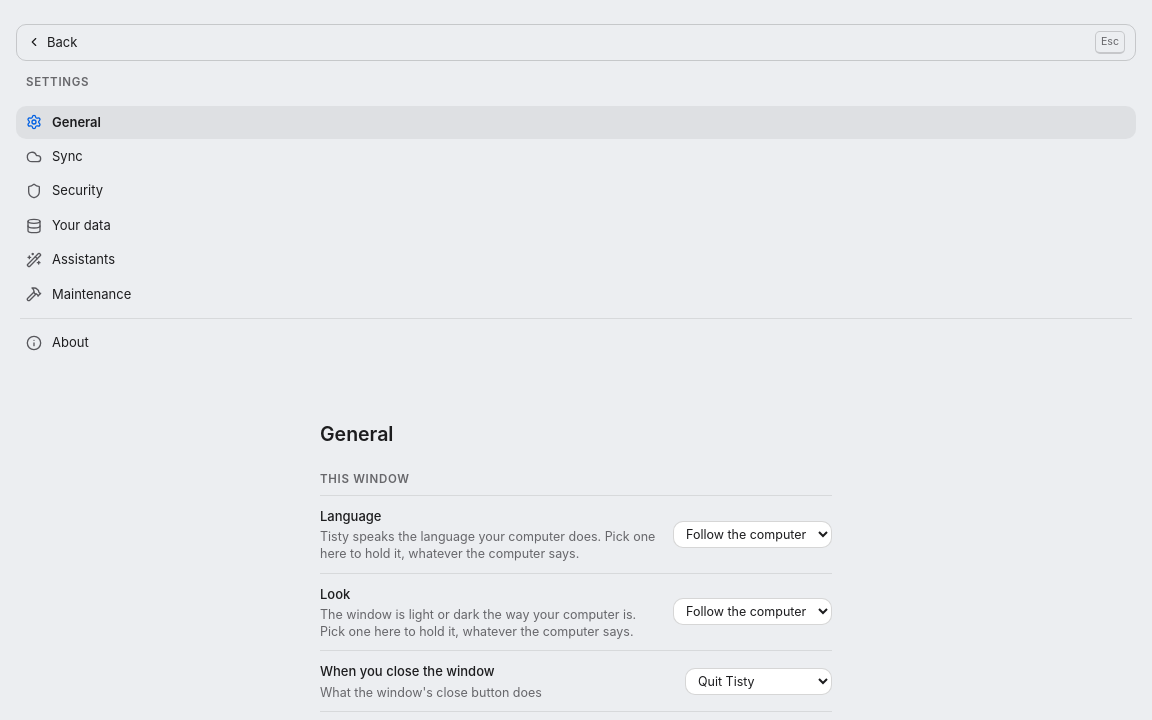
Test case: the maintenance panel › offers to turn syncing on when there is no folder
Step 1. Click the tab "Sync" → (67,156), box [16, 140, 1136, 173]
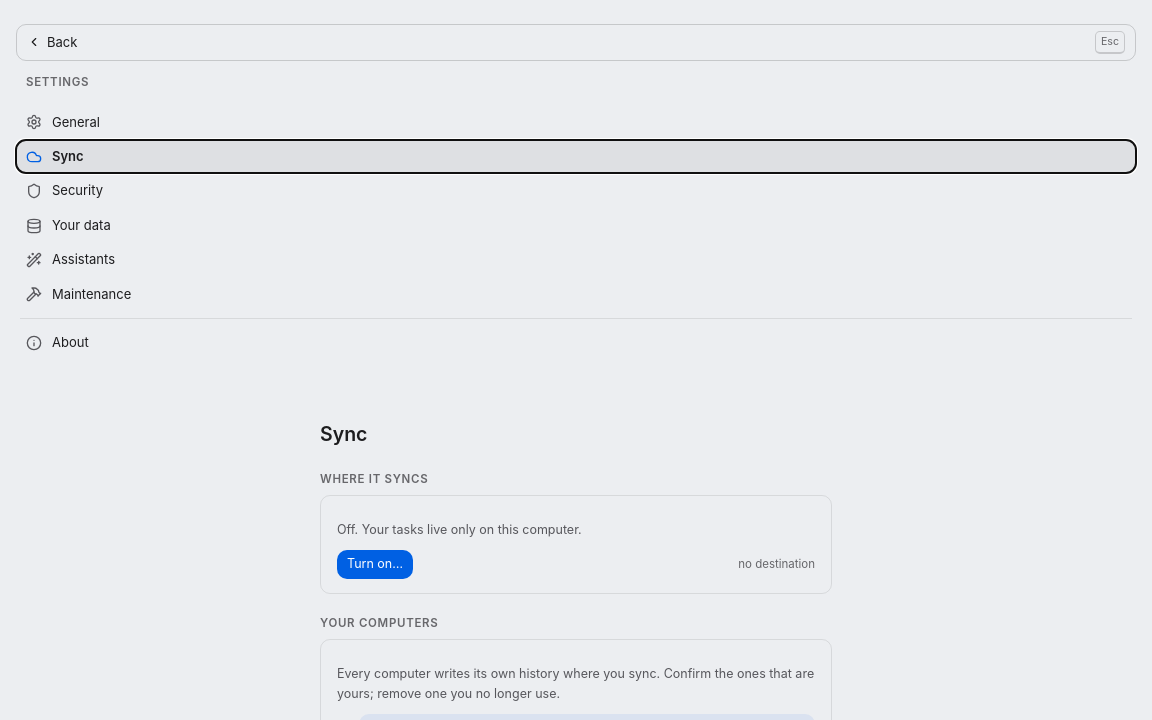
Now the text "Off. Your tasks live only on this computer." is shown, box [337, 522, 582, 537]
Now the text "no destination" is shown, box [738, 555, 815, 574]
